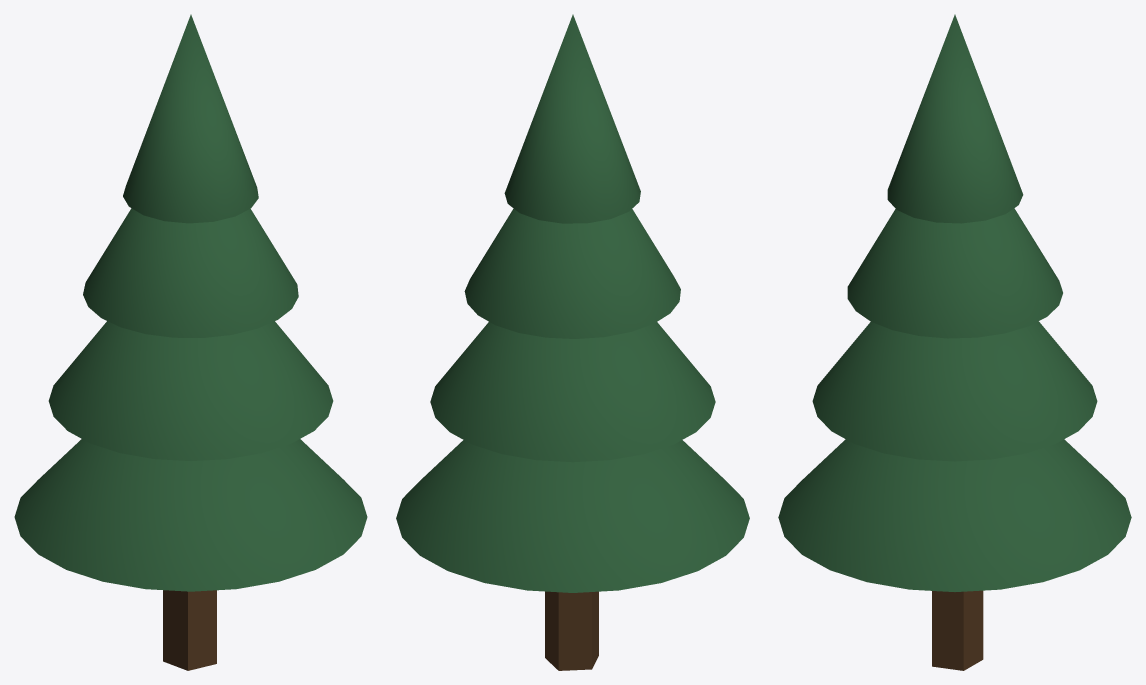
The model's file is pine.glb.
3 views of the same model, side by side, from view 1: azimuth 30°, elevation 25°; view 2: azimuth 150°, elevation 25°; view 3: azimuth 270°, elevation 25° (orthographic).
Visible parts, largest first — view 1: tree; view 2: tree; view 3: tree.
Boxes of the visible parts, x1=… form: tree: x1=14, y1=14, x2=367, y2=670; tree: x1=396, y1=14, x2=749, y2=670; tree: x1=778, y1=14, x2=1131, y2=670.
Bounding box in the file's own units: 1.24 × 2.5 × 1.24.
